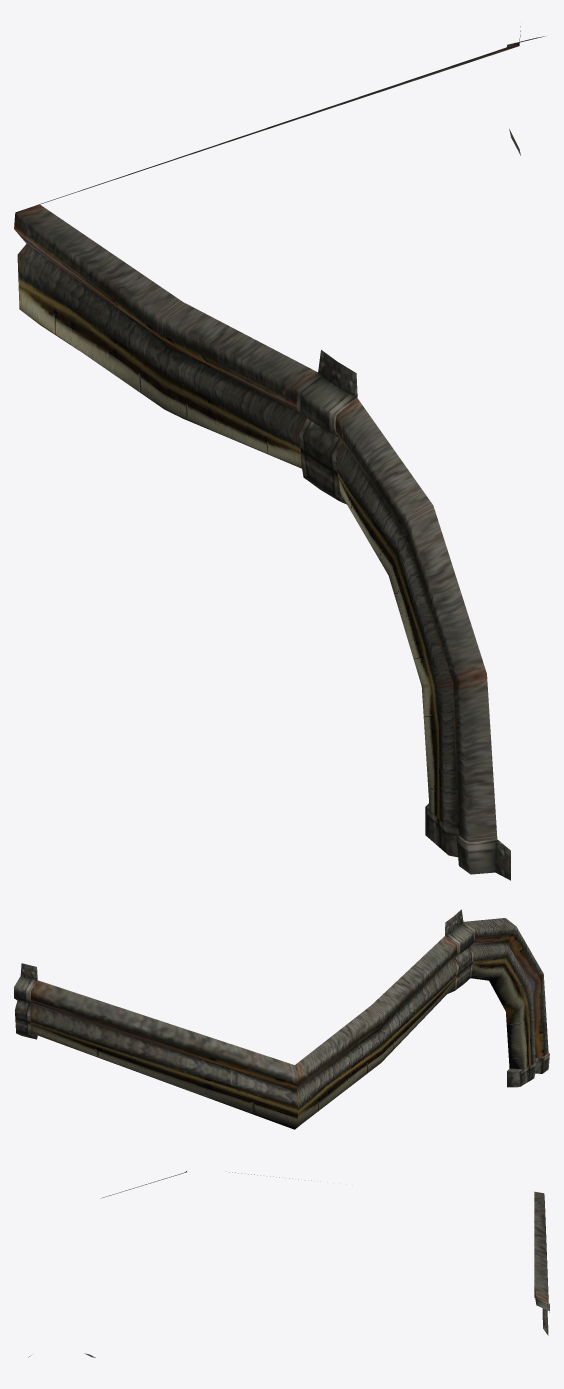
File: M12_SidePipes_J.glb
The picture shows the model from 3 angles, top to bottom: view 1: azimuth 30°, elevation 25°; view 2: azimuth 150°, elevation 25°; view 3: azimuth 270°, elevation 25°; orthographic projection. The views are drawn at different scales.
Visible parts, largest first — view 1: M12_SIDEPIPES_J; view 2: M12_SIDEPIPES_J; view 3: M12_SIDEPIPES_J.
Boxes of the visible parts, x1,y1,x2,y2 form: M12_SIDEPIPES_J: [14, 26, 544, 880]; M12_SIDEPIPES_J: [14, 909, 549, 1129]; M12_SIDEPIPES_J: [28, 1171, 549, 1357].
Size of the model in its own units: 2.62 by 1.87 by 4.12.
Materials: 1 (1 with a texture image).
